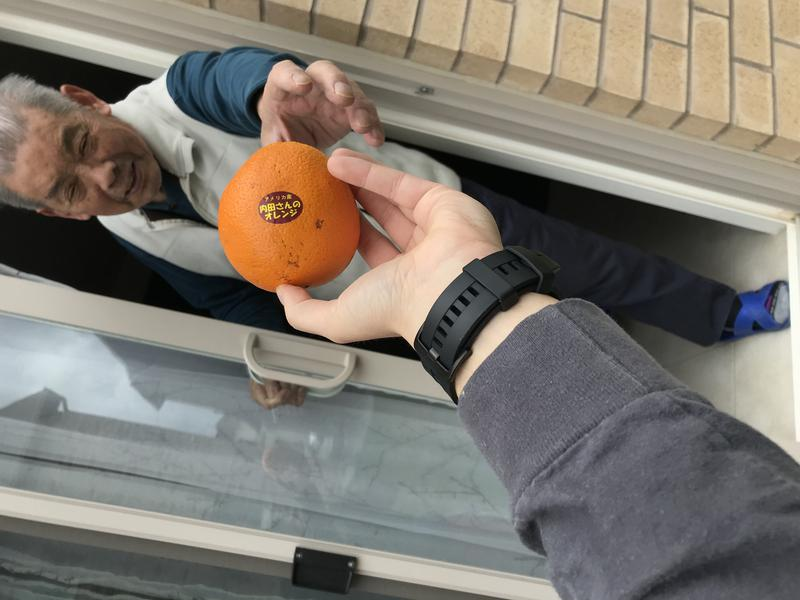orange: (198, 134, 368, 299)
